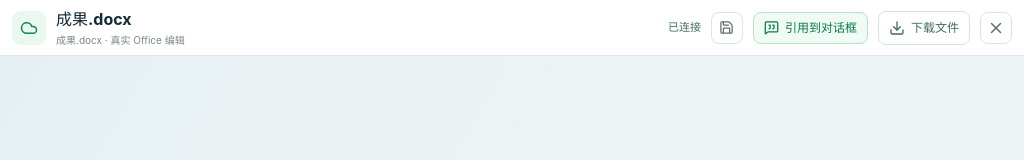
OnlyOfficeEditorWorkspace › does not substitute a file reference when no text is selected
Expected: the text "已连接" is shown, top-left (668, 19), bottom-right (701, 36)
Click the button "引用到对话框" at (810, 28), box top-left (753, 12), bottom-right (868, 44)
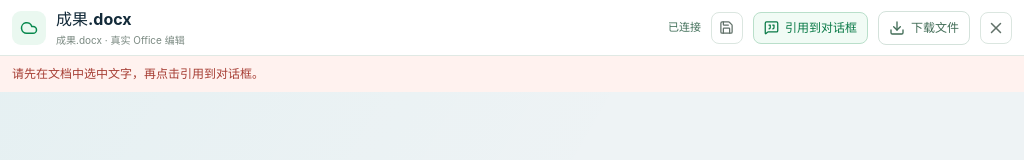
Expected: the message "请先在文档中选中文字，再点击引用到对话框。" is shown, top-left (0, 56), bottom-right (1023, 92)
